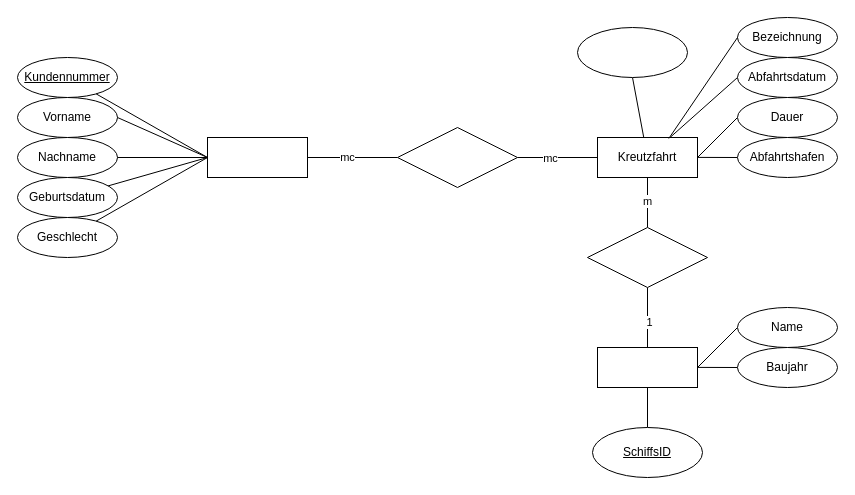
The diagram is 855 pixels wide and 495 high, and some of its shapes have lost their labels. Here are the shapes that lost their labels. From the top down, the box of each, then its label:
(576, 26, 688, 78): Kreutzfahrnummer
(206, 136, 308, 178): Kunde
(396, 126, 518, 188): bucht
(586, 226, 708, 288): verwendet
(596, 346, 698, 388): Schiff
